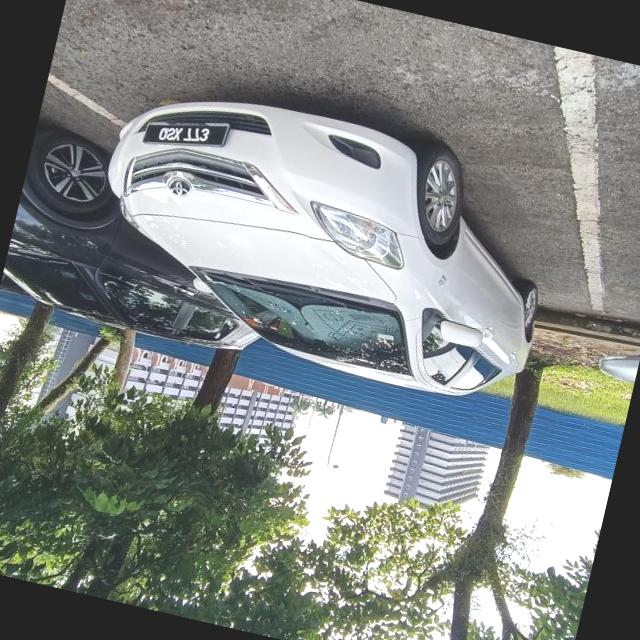ToyotaVios: (72, 69, 572, 415)
